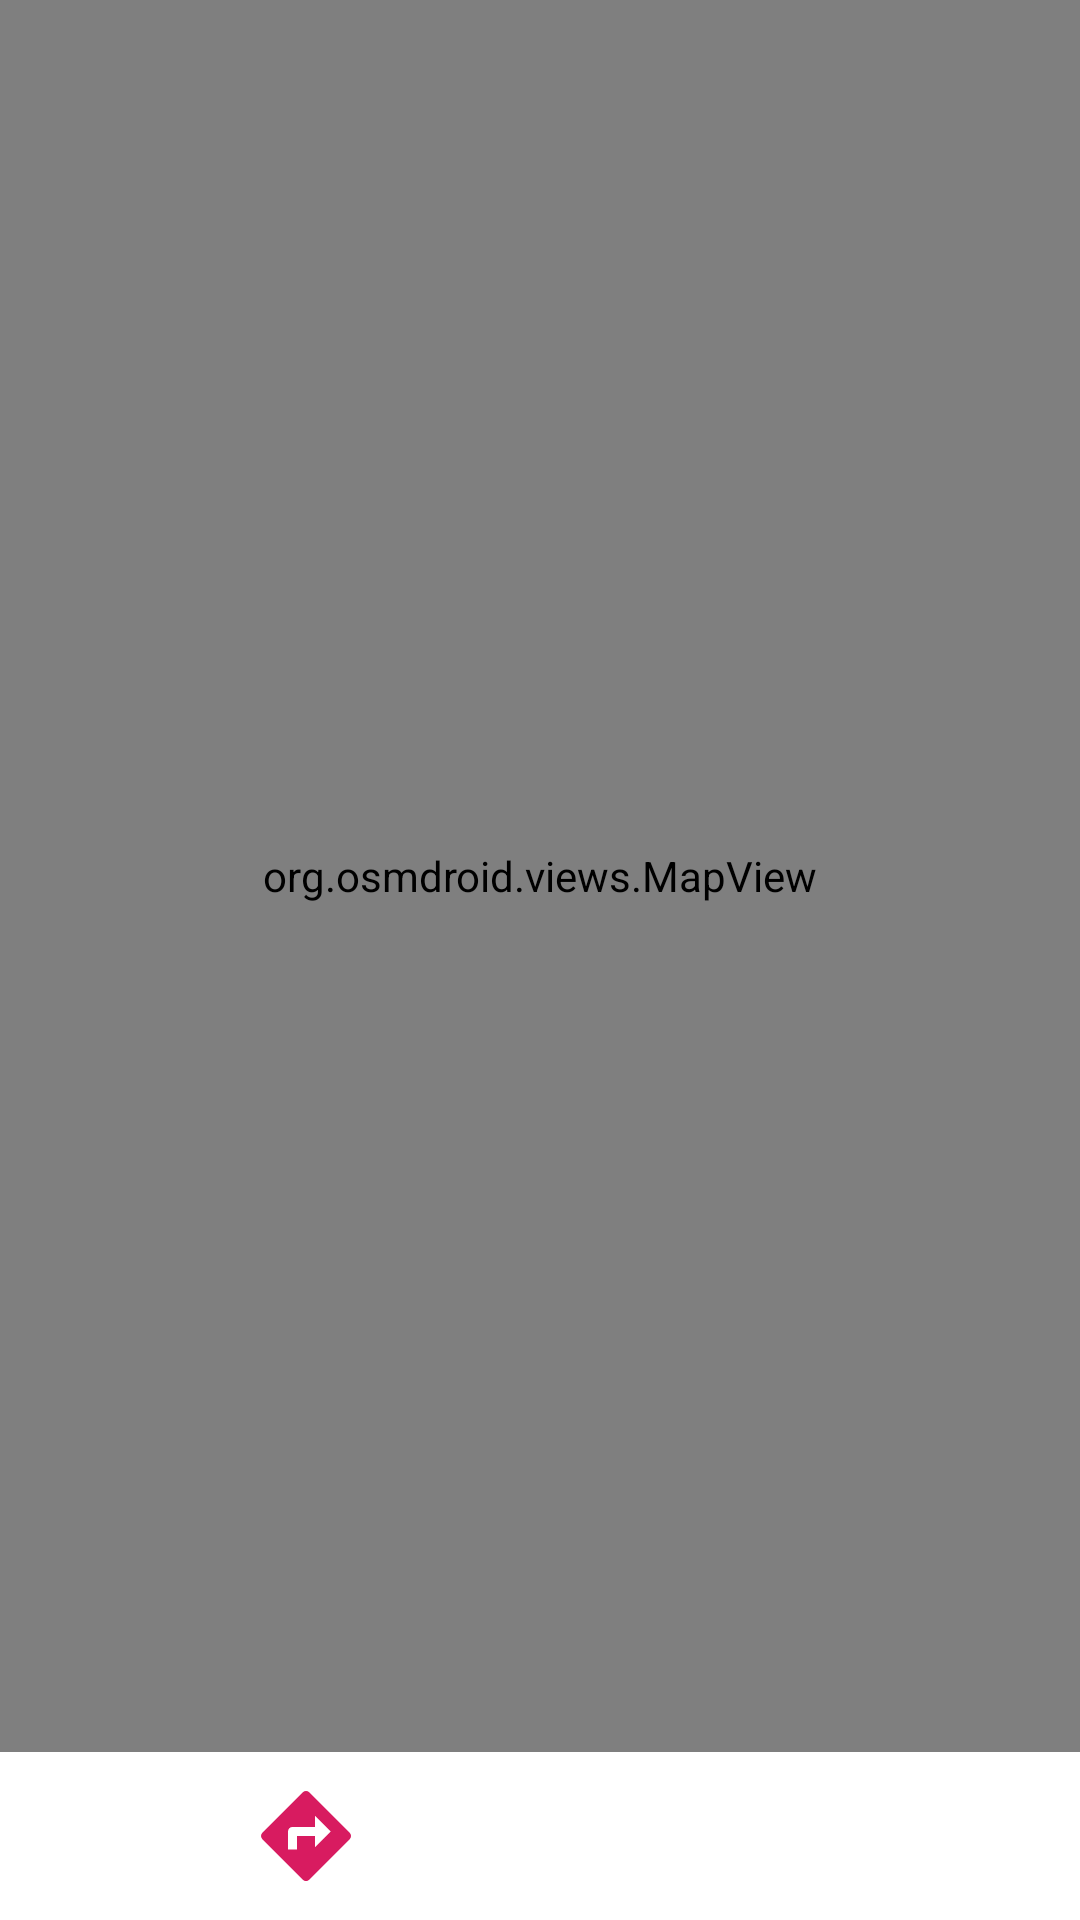

Locate icon controls on the screen. Image size 1080px×1920px, boxes as (x1, y1, x2, y2).
directions: (261, 1791, 351, 1881)
